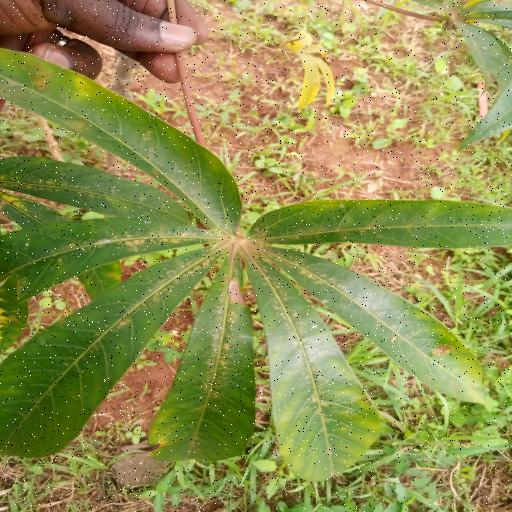Cassava_Mosaic: (0, 44, 512, 479)
